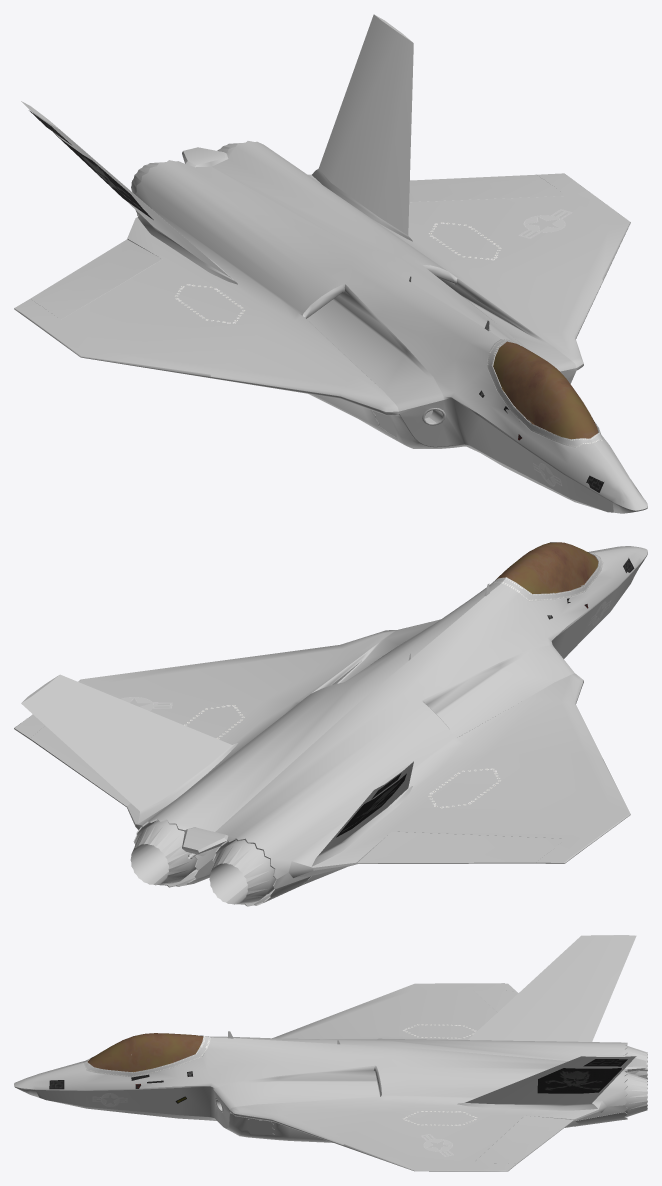
The model's file is FA38_Airborne.obj.
3 renders of one model, top to bottom at view 1: azimuth 30°, elevation 25°; view 2: azimuth 150°, elevation 25°; view 3: azimuth 270°, elevation 25°, orthographic. The views are drawn at different scales.
Parts seen in each view (by area): view 1: Mesh_1117, Mesh_0662, Mesh_0790, Mesh_0559, Mesh_0805; view 2: Mesh_1117, Mesh_0662, Mesh_0548, Mesh_0547, Mesh_0805, Mesh_0790, Mesh_0559; view 3: Mesh_1117, Mesh_0662, Mesh_0805, Mesh_0790, Mesh_0547, Mesh_0559, Mesh_1118, Mesh_0333, Mesh_0538, Mesh_0545.
Part boxes in pixels (bbox=[...]): Mesh_1117: bbox=[14, 14, 647, 513]; Mesh_0662: bbox=[493, 341, 598, 439]; Mesh_0790: bbox=[175, 209, 572, 486]; Mesh_0559: bbox=[487, 339, 603, 448]; Mesh_0805: bbox=[29, 110, 603, 492]; Mesh_1117: bbox=[14, 546, 647, 889]; Mesh_0662: bbox=[496, 542, 598, 593]; Mesh_0548: bbox=[209, 840, 275, 904]; Mesh_0547: bbox=[130, 820, 196, 885]; Mesh_0805: bbox=[336, 558, 634, 837]; Mesh_0790: bbox=[120, 600, 611, 808]; Mesh_0559: bbox=[495, 552, 603, 601]; Mesh_1117: bbox=[14, 935, 647, 1171]; Mesh_0662: bbox=[87, 1033, 203, 1071]; Mesh_0805: bbox=[49, 1059, 627, 1103]; Mesh_0790: bbox=[92, 1024, 477, 1156]; Mesh_0547: bbox=[624, 1072, 647, 1116]; Mesh_0559: bbox=[82, 1035, 210, 1077]; Mesh_1118: bbox=[146, 1090, 171, 1113]; Mesh_0333: bbox=[87, 1041, 210, 1076]; Mesh_0538: bbox=[574, 1112, 627, 1126]; Mesh_0545: bbox=[247, 1119, 274, 1134].
Size of the model in its own units: 41677 by 13043 by 59382.
